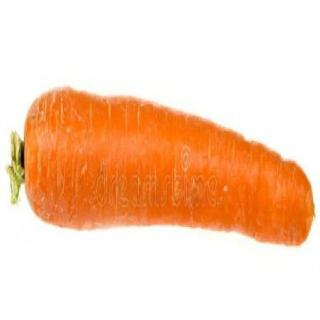carrot: (24, 83, 316, 249)
